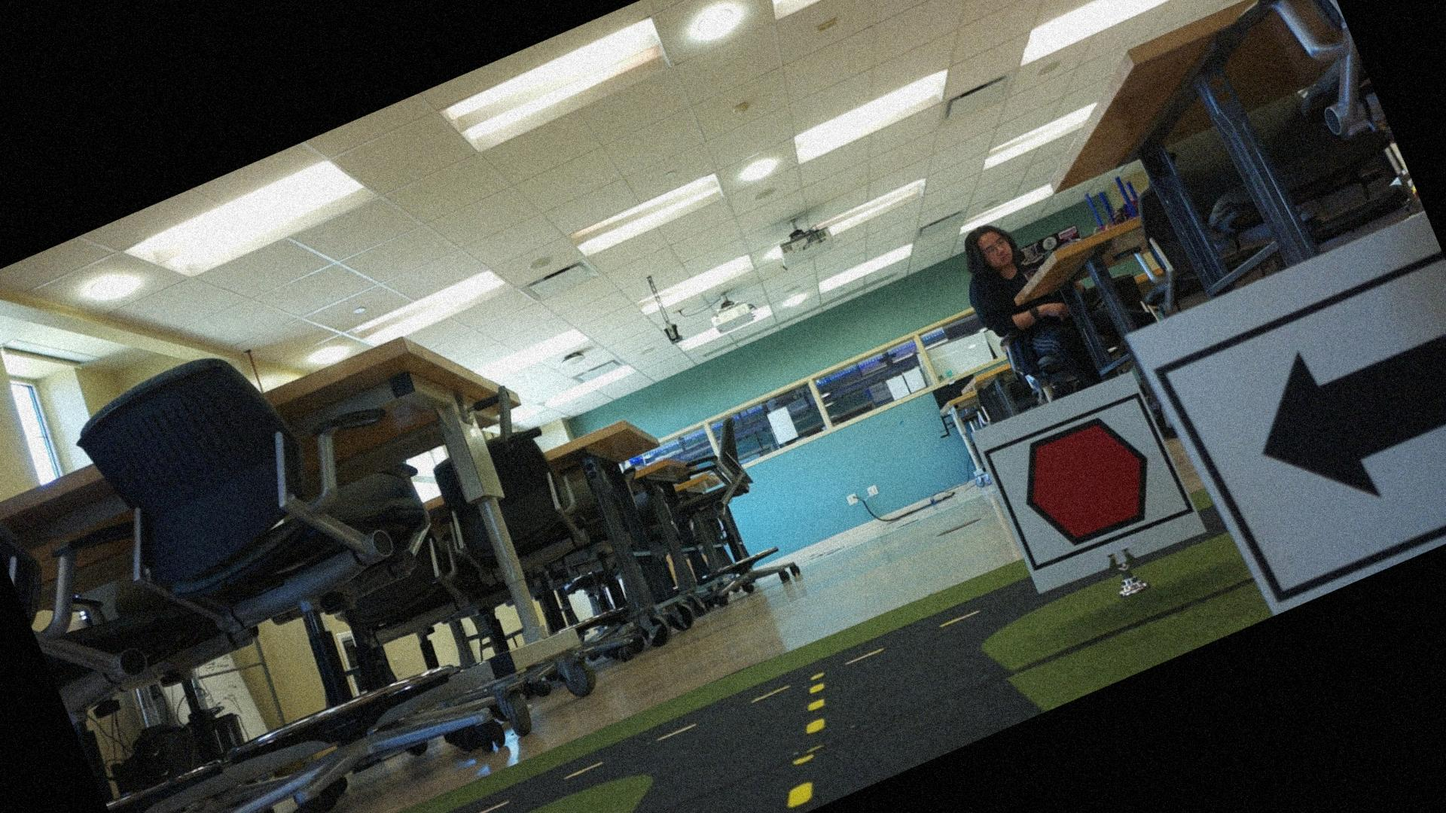stop: (985, 394, 1185, 574)
turnright: (1169, 256, 1445, 603)
yellowline: (748, 679, 866, 810)
